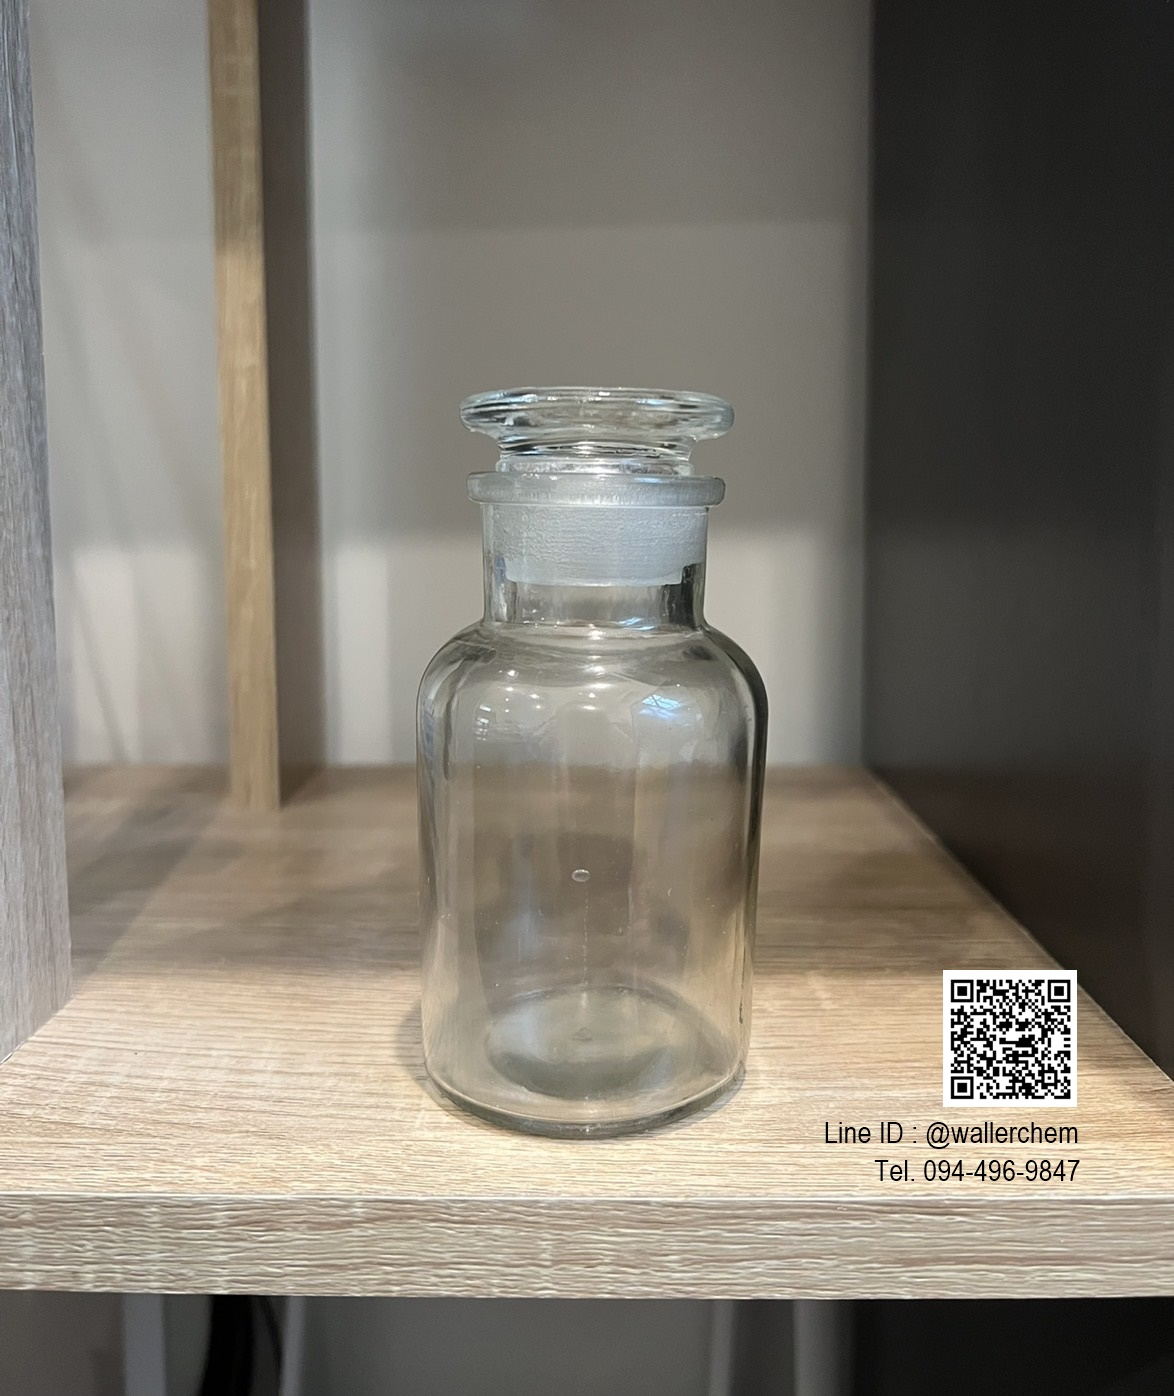glass_bottle: (376, 350, 813, 1158)
